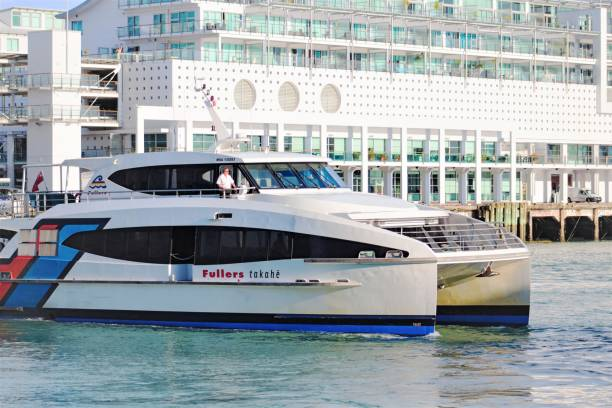ferry: (1, 79, 531, 338)
